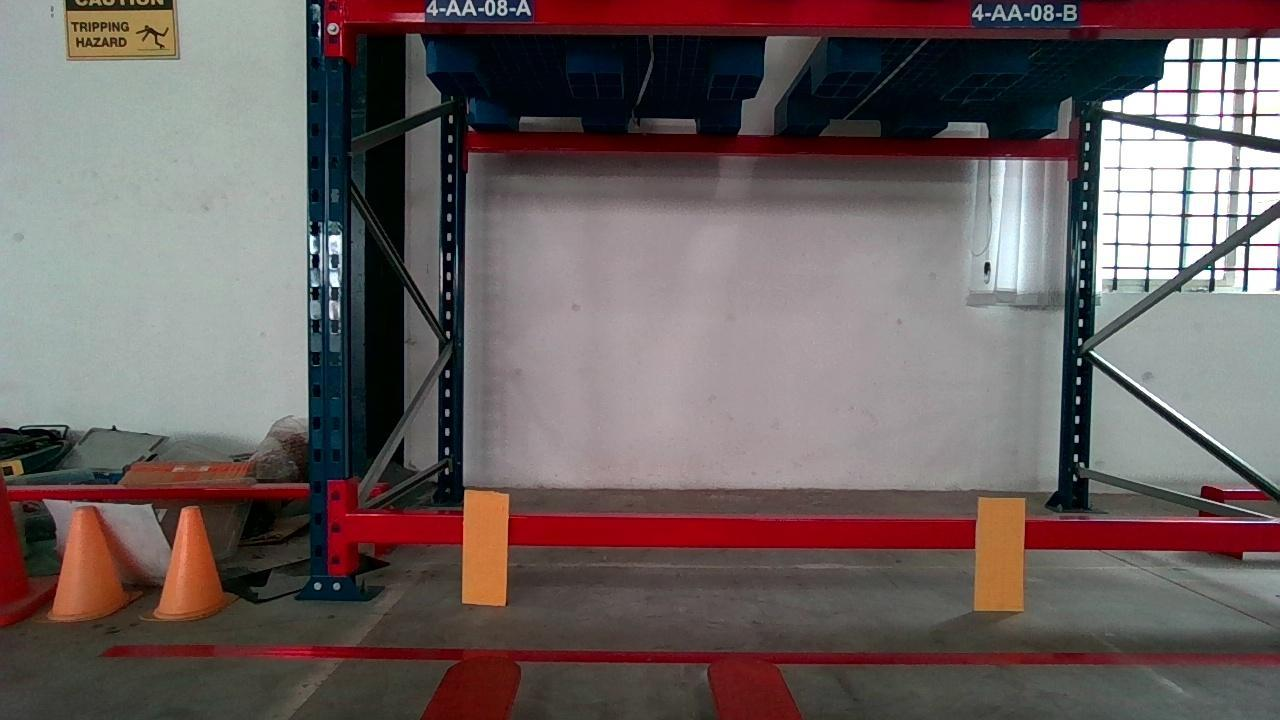h_rack: (348, 514, 1280, 549), (341, 0, 1280, 26)
orange_strip: (975, 497, 1022, 609), (464, 487, 506, 605)
red_line: (102, 640, 1277, 670)
